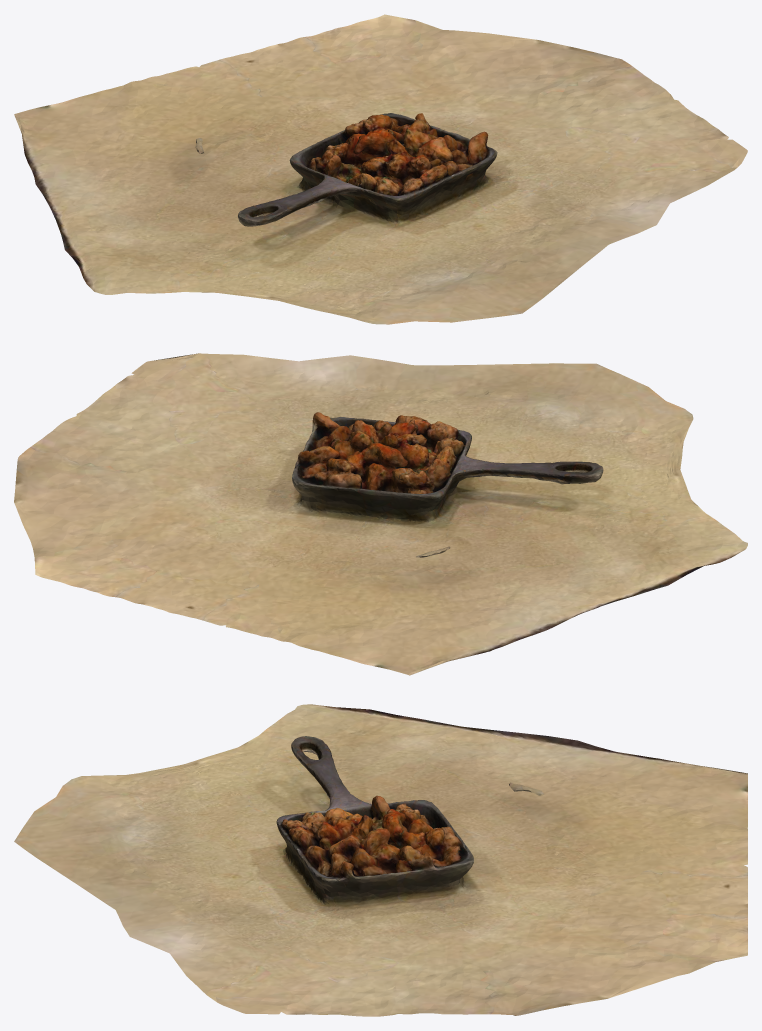
File: chicken_bites-resized.glb
3 views of the same model, one above another, from view 1: azimuth 30°, elevation 25°; view 2: azimuth 150°, elevation 25°; view 3: azimuth 270°, elevation 25° (orthographic). The views are drawn at different scales.
Size of the model in its own units: 0.7047 by 0.0652 by 0.6792.
Materials: 1 (1 with a texture image).
